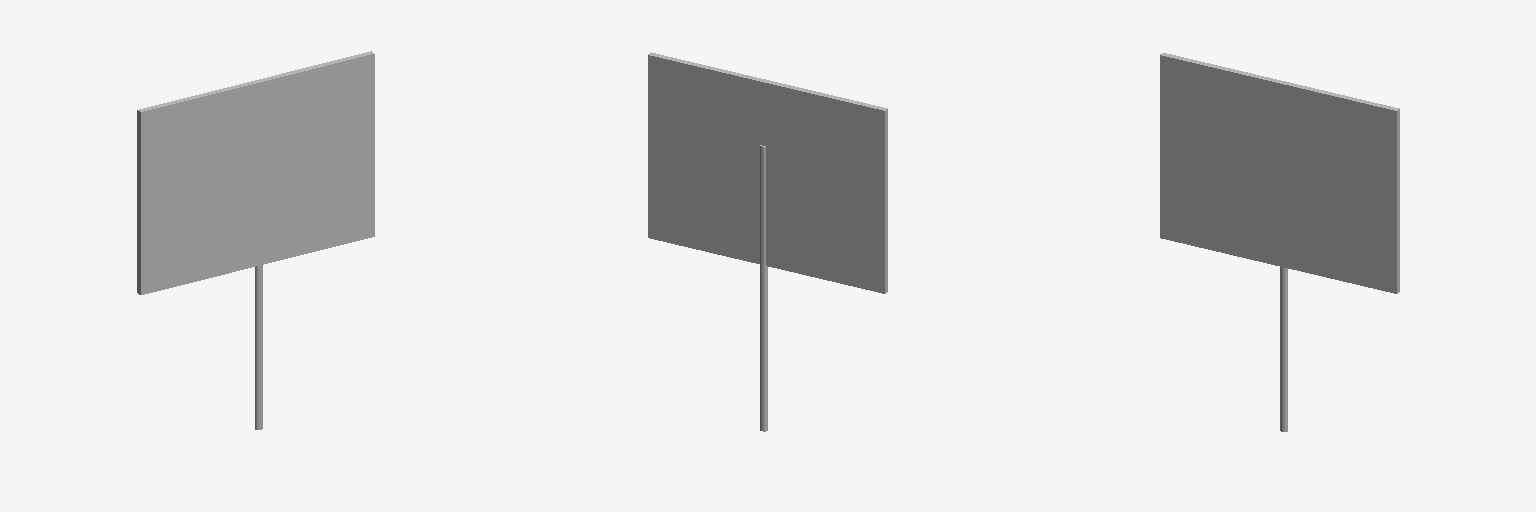
Rendered from board_10.obj.
3 views of the same model, side by side, from view 1: azimuth 30°, elevation 25°; view 2: azimuth 150°, elevation 25°; view 3: azimuth 330°, elevation 25° (orthographic).
Parts seen in each view (by area): view 1: Cube.010_Cube.011, Cylinder.010; view 2: Cube.010_Cube.011, Cylinder.010; view 3: Cube.010_Cube.011, Cylinder.010.
Boxes of the visible parts, box(x1,y1,x2,y2) form: Cube.010_Cube.011: box(137, 51, 374, 294); Cylinder.010: box(255, 265, 262, 429); Cube.010_Cube.011: box(648, 52, 887, 293); Cylinder.010: box(760, 145, 767, 431); Cube.010_Cube.011: box(1160, 53, 1399, 293); Cylinder.010: box(1280, 267, 1287, 431).
Size of the model in its own units: 0.3464 by 0.4895 by 0.0134.